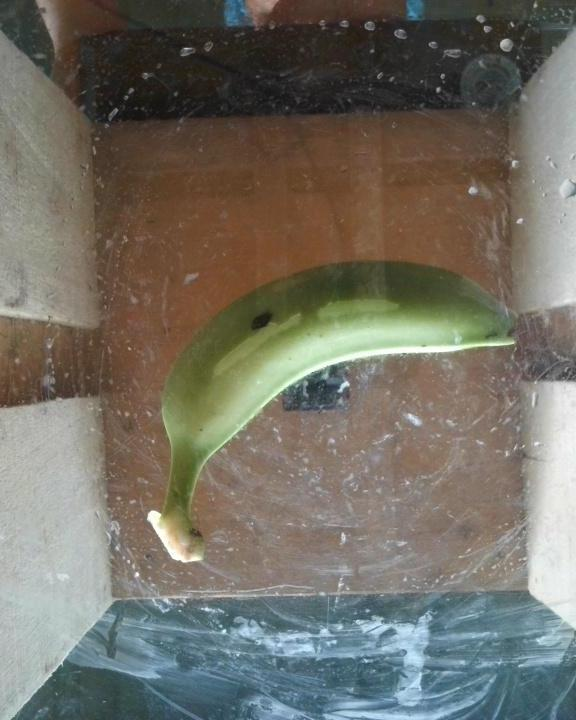CLASS B: (142, 252, 519, 570)
Class A: (242, 302, 302, 338)
